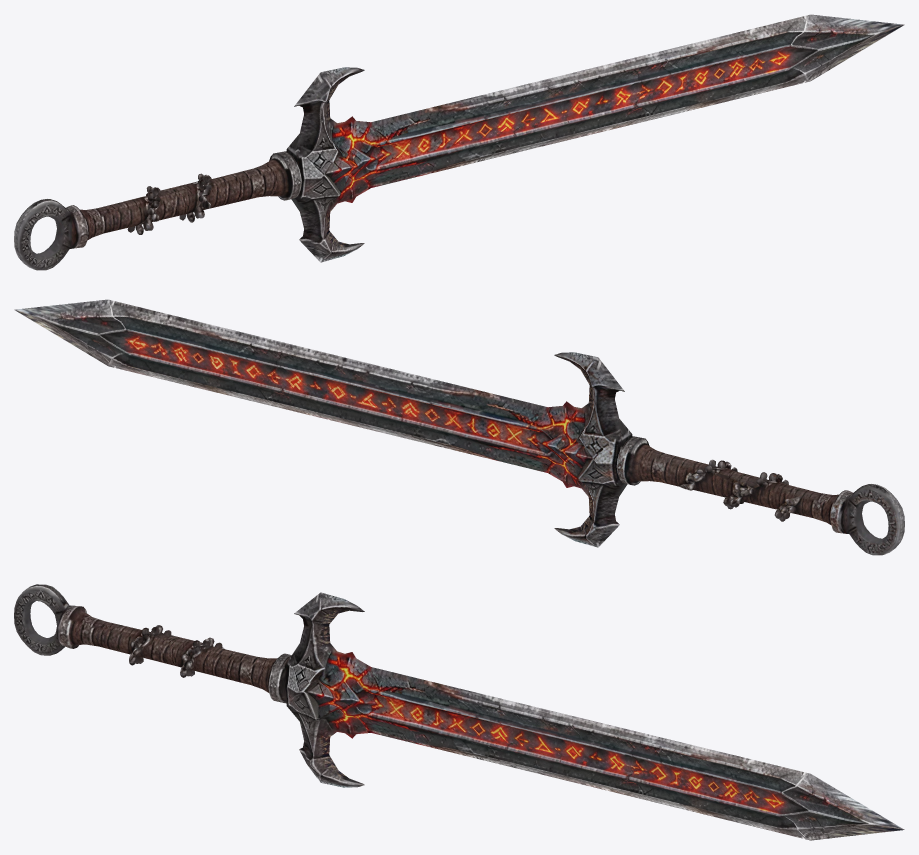
Rendered from rune_blade.glb.
3 views of the same model, one above another, from view 1: azimuth 30°, elevation 25°; view 2: azimuth 150°, elevation 25°; view 3: azimuth 330°, elevation 25° (orthographic).
Visible parts, largest first — view 1: rune_blade; view 2: rune_blade; view 3: rune_blade.
Part boxes in pixels (x1,y1,x2,y2): rune_blade: (14,14,904,270); rune_blade: (14,299,904,555); rune_blade: (14,584,904,840).
Bounding box in the file's own units: 2.1 × 0.4298 × 0.1036.
Materials: 1 (1 with a texture image).
